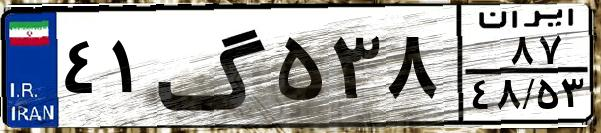1: (110, 28, 156, 98)
3: (330, 28, 385, 110), (560, 70, 590, 125)
4: (57, 26, 110, 100), (470, 70, 495, 125)
5: (270, 28, 330, 110), (535, 70, 560, 125)
7: (537, 27, 568, 80)
8: (385, 28, 445, 110), (508, 27, 537, 80), (495, 70, 520, 125)
گ: (156, 12, 270, 120)
